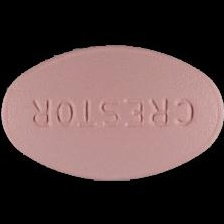55154-6925: (0, 0, 224, 224)
